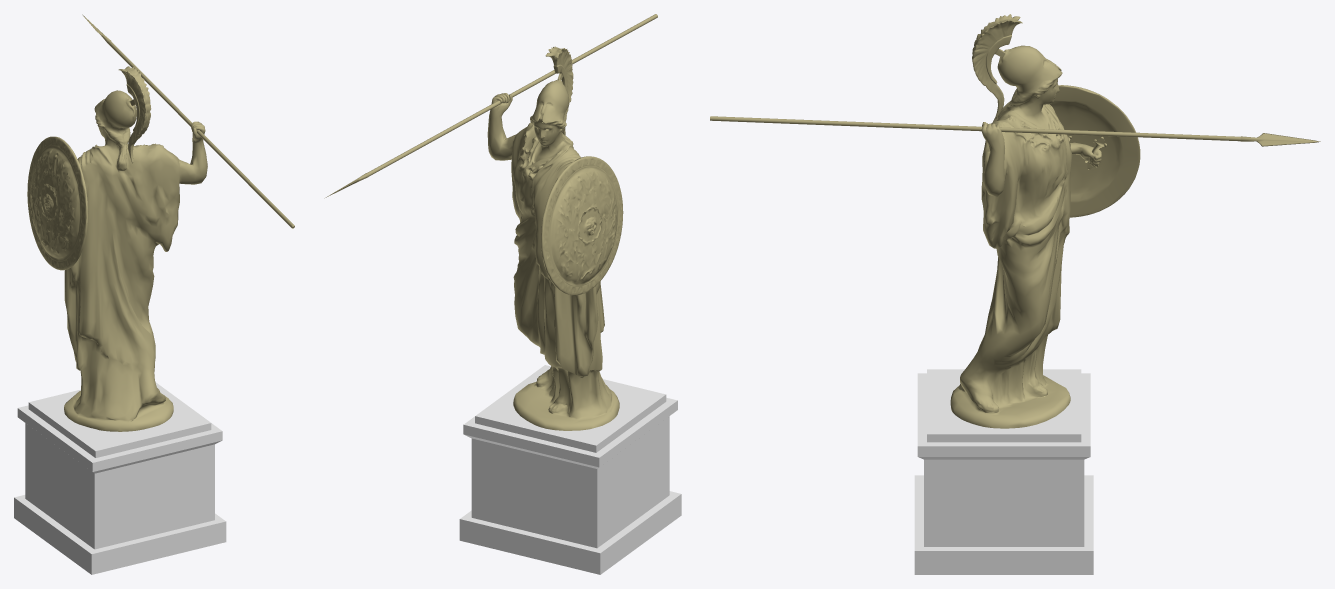
File: promachosNoNormal.glb
3 renders of one model, left to right at view 1: azimuth 30°, elevation 25°; view 2: azimuth 150°, elevation 25°; view 3: azimuth 270°, elevation 25°, orthographic. The views are drawn at different scales.
Parts seen in each view (by area): view 1: Athena_Promachos, Promachos_Base; view 2: Athena_Promachos, Promachos_Base; view 3: Athena_Promachos, Promachos_Base.
Part boxes in pixels (left/top/right/bottom): Athena_Promachos: left=27, top=14, right=294, bottom=431; Promachos_Base: left=14, top=382, right=226, bottom=574; Athena_Promachos: left=324, top=14, right=657, bottom=430; Promachos_Base: left=459, top=365, right=681, bottom=574; Athena_Promachos: left=710, top=14, right=1320, bottom=428; Promachos_Base: left=914, top=369, right=1093, bottom=574.
Size of the model in its own units: 6.22 by 16.3 by 17.15.
